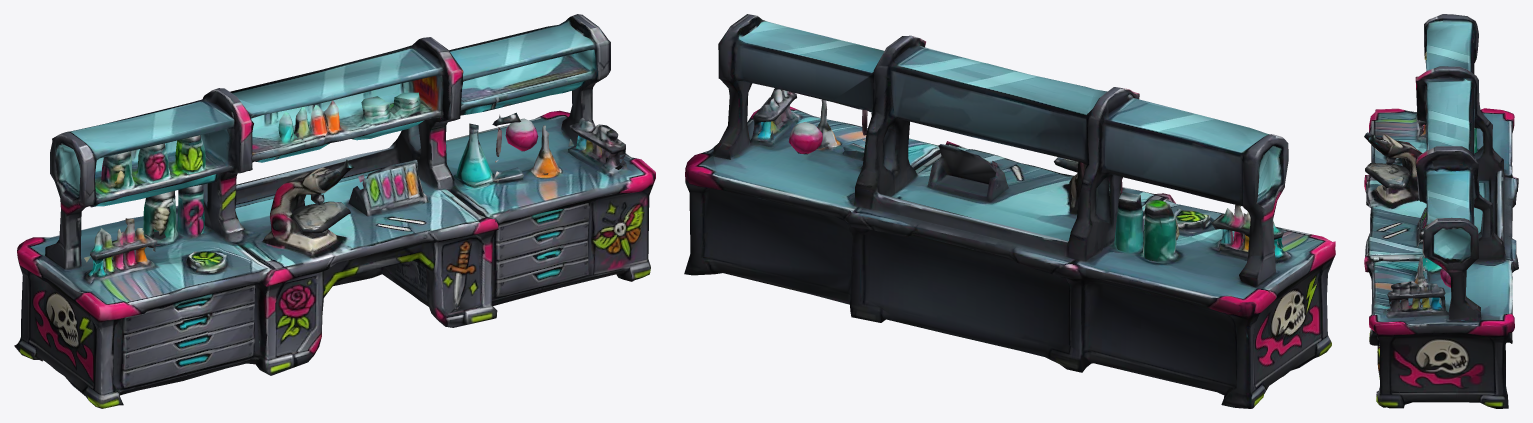
File: GW_D06_research_table_bank.glb
The picture shows the model from 3 angles, left to right: view 1: azimuth 30°, elevation 25°; view 2: azimuth 150°, elevation 25°; view 3: azimuth 270°, elevation 25°; orthographic projection. The views are drawn at different scales.
Parts seen in each view (by area): view 1: tripo_node_b1e89c2b-4146-4ab2-b7aa-9423be2472c8; view 2: tripo_node_b1e89c2b-4146-4ab2-b7aa-9423be2472c8; view 3: tripo_node_b1e89c2b-4146-4ab2-b7aa-9423be2472c8.
Part boxes in pixels (x1,y1,x2,y2): tripo_node_b1e89c2b-4146-4ab2-b7aa-9423be2472c8: (14,14,655,408); tripo_node_b1e89c2b-4146-4ab2-b7aa-9423be2472c8: (684,14,1335,408); tripo_node_b1e89c2b-4146-4ab2-b7aa-9423be2472c8: (1364,14,1518,408).
Size of the model in its own units: 0.9981 by 0.4144 by 0.3.
Materials: 1 (1 with a texture image).
